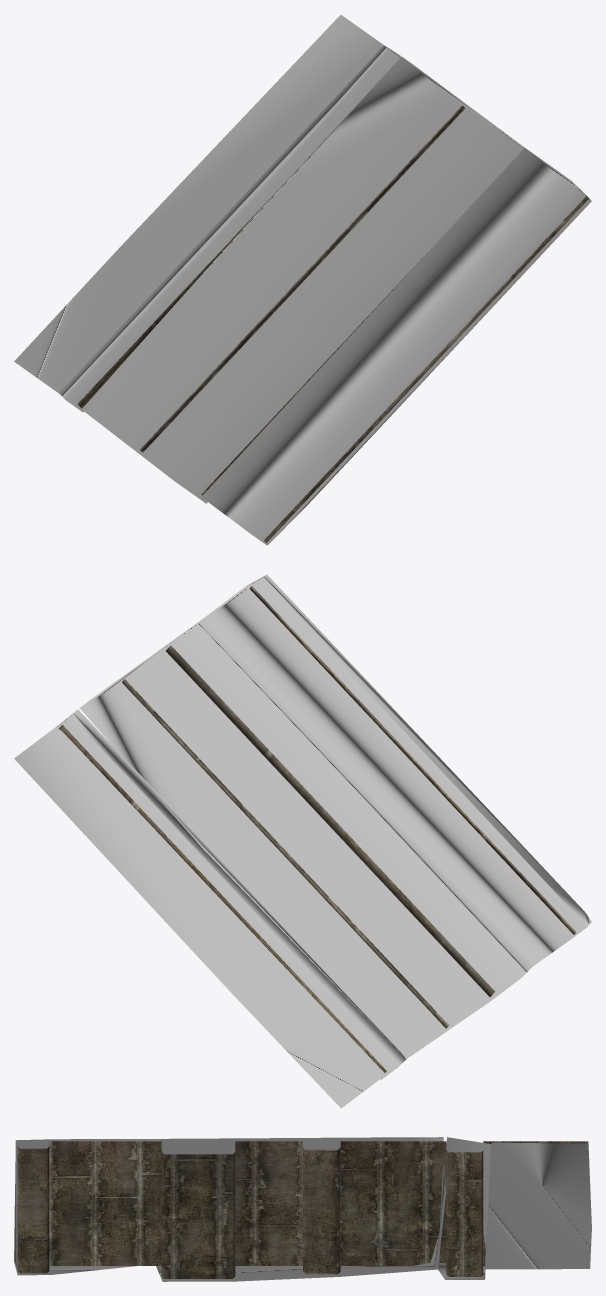
Rendered from SM_Roof.gltf.
The picture shows the model from 3 angles, top to bottom: view 1: azimuth 30°, elevation 25°; view 2: azimuth 150°, elevation 25°; view 3: azimuth 270°, elevation 25°; orthographic projection. The views are drawn at different scales.
Parts seen in each view (by area): view 1: SM_Roof_ConvexHulls, SM_Roof_LOD0; view 2: SM_Roof_ConvexHulls, SM_Roof_LOD0; view 3: SM_Roof_LOD0, SM_Roof_ConvexHulls.
Part boxes in pixels (x1=…): SM_Roof_ConvexHulls: x1=14, y1=15, x2=591, y2=545; SM_Roof_LOD0: x1=78, y1=105, x2=588, y2=542; SM_Roof_ConvexHulls: x1=14, y1=574, x2=591, y2=1108; SM_Roof_LOD0: x1=58, y1=586, x2=576, y2=1072; SM_Roof_LOD0: x1=17, y1=1141, x2=588, y2=1278; SM_Roof_ConvexHulls: x1=14, y1=1137, x2=591, y2=1281.
Size of what is drawn, in the model's own units: 2.24 by 1.8 by 2.91.
